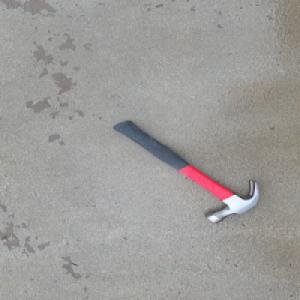Hammer: (111, 119, 260, 224)
